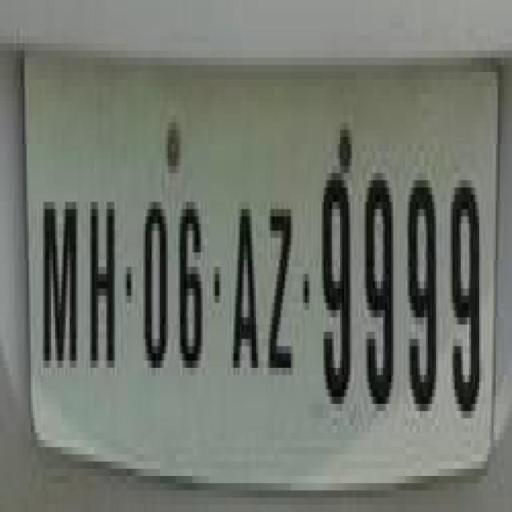number plate: (14, 43, 512, 505)
